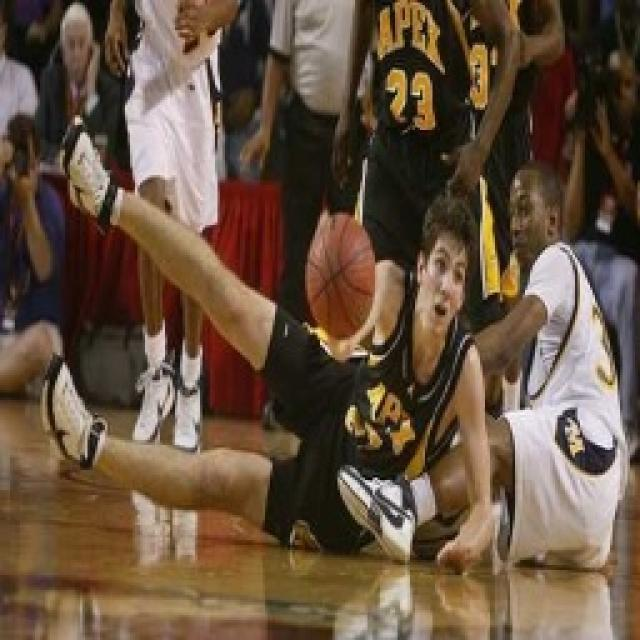basketball: (300, 208, 382, 344)
